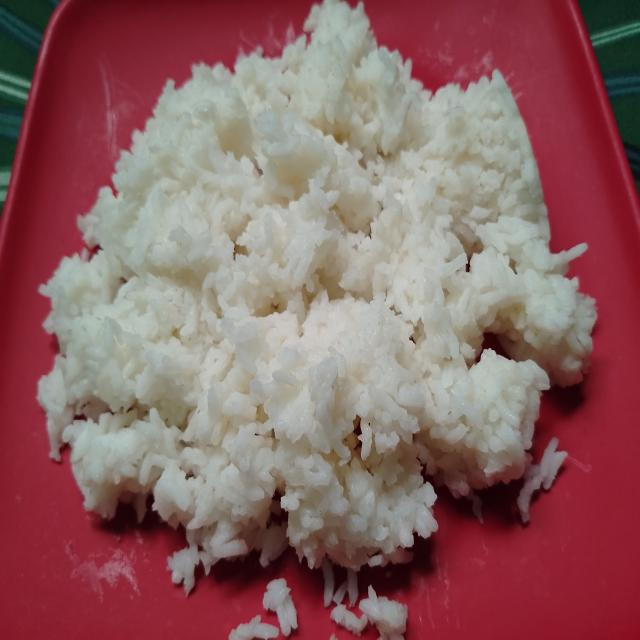Chicken -Chicken Inasal-: (43, 30, 594, 575)
